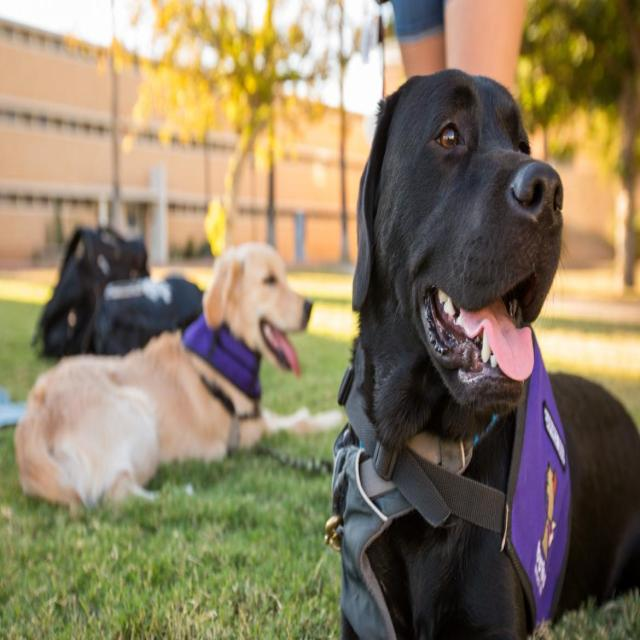Dog: (349, 59, 570, 439)
